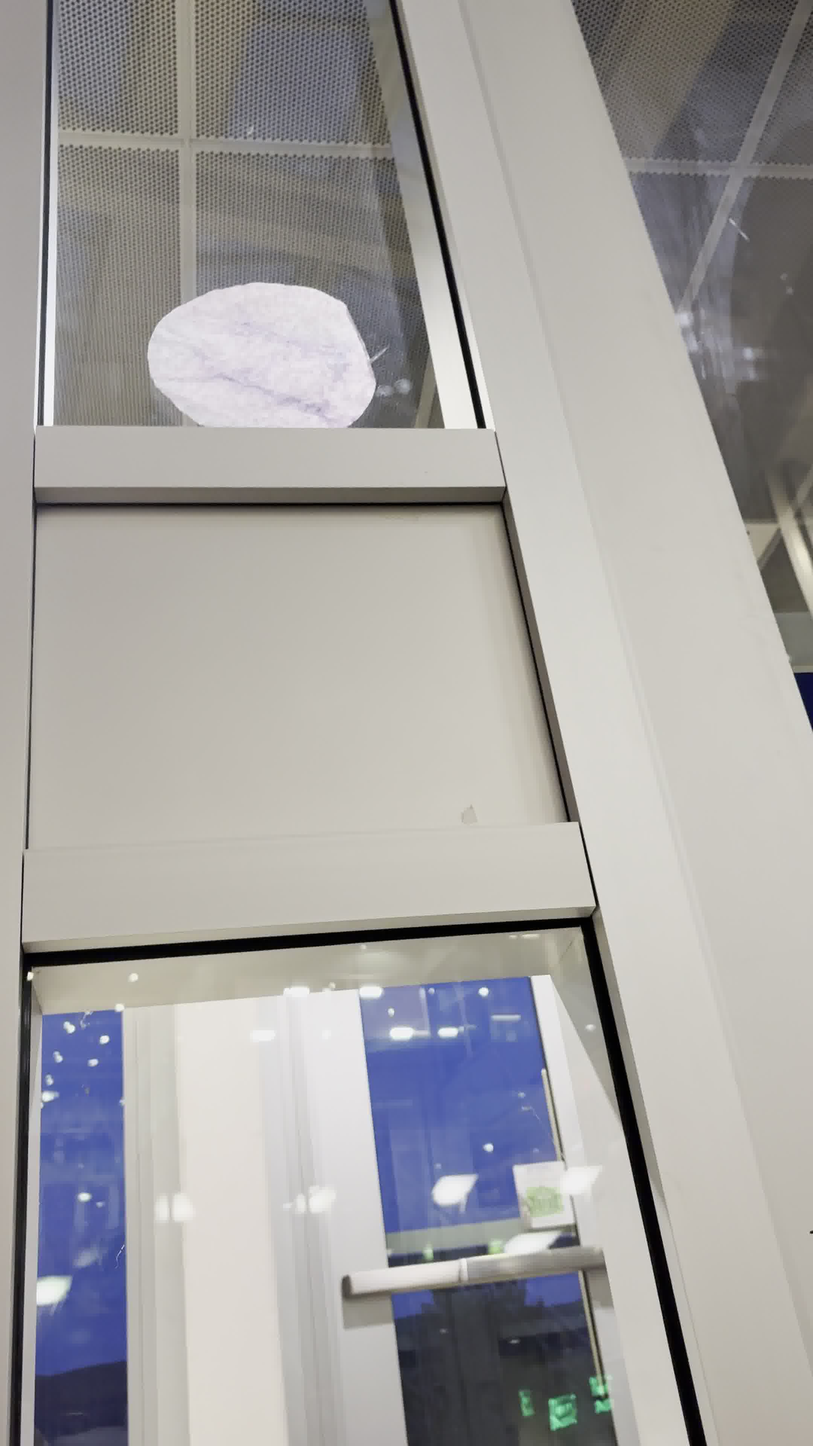Target: (143, 277, 378, 434)
